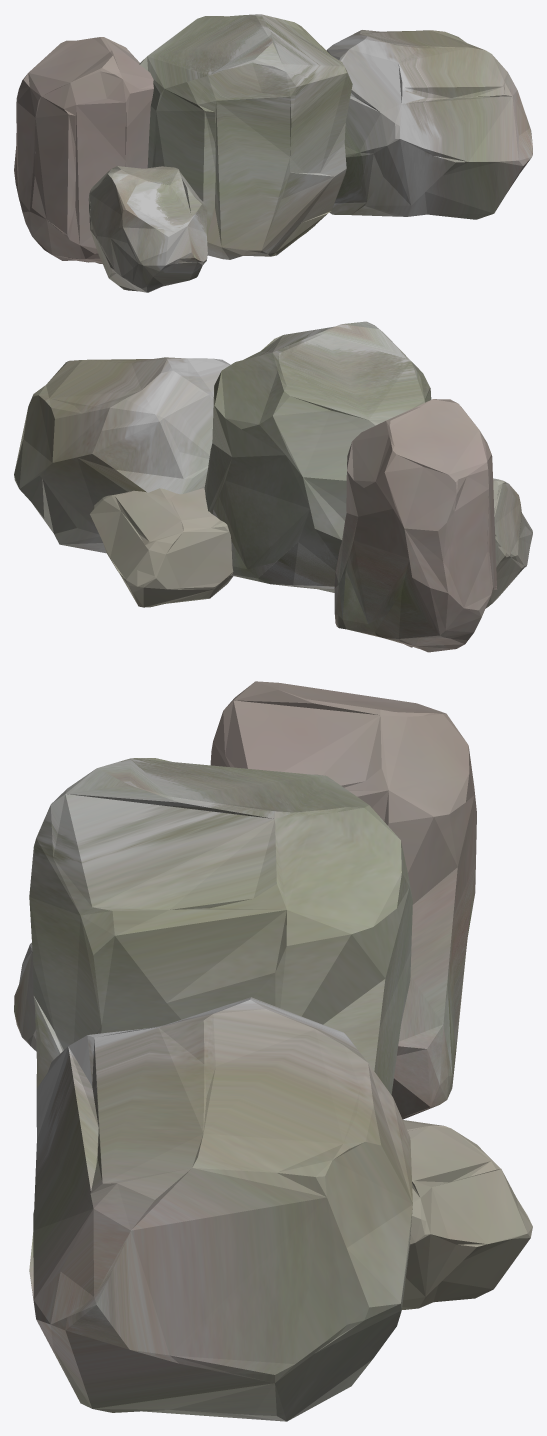
The model's file is rock.obj.
3 renders of one model, top to bottom at view 1: azimuth 30°, elevation 25°; view 2: azimuth 150°, elevation 25°; view 3: azimuth 270°, elevation 25°, orthographic. The views are drawn at different scales.
Visible parts, largest first — view 1: rock; view 2: rock; view 3: rock.
Part boxes in pixels (left/top/right/bottom): rock: left=14, top=14, right=532, bottom=292; rock: left=14, top=321, right=532, bottom=652; rock: left=14, top=681, right=532, bottom=1421.
Size of the model in its own units: 4.99 by 2.51 by 2.59.
Materials: 1 (1 with a texture image).
